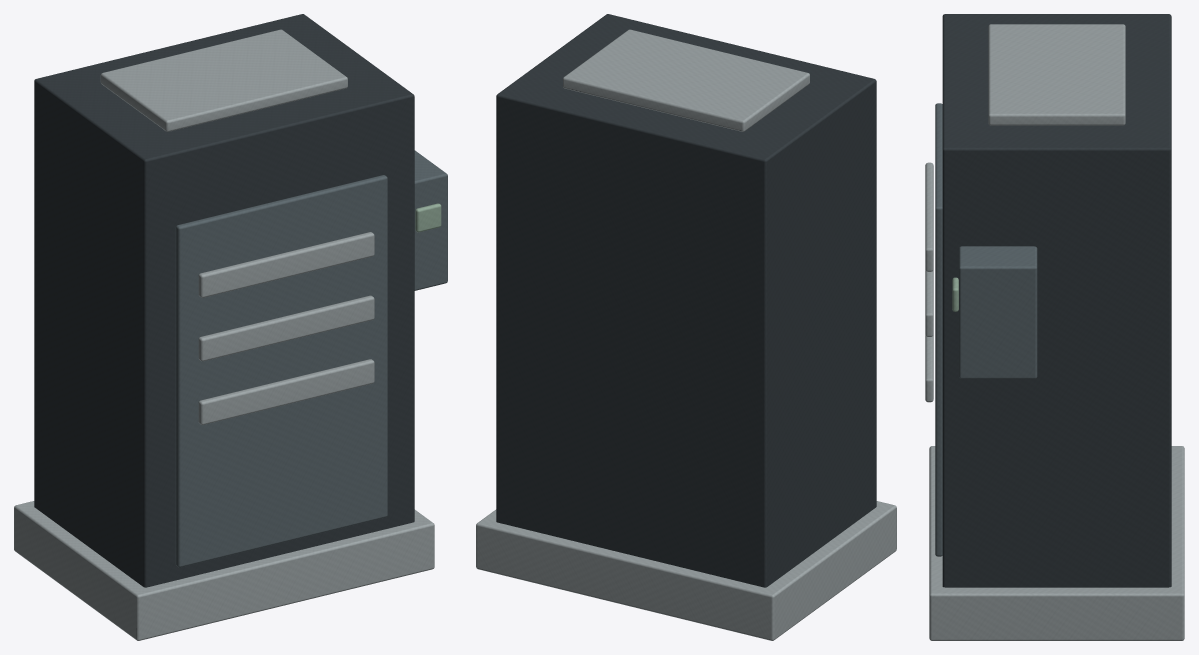
The model's file is AirScrubber.fbx.
3 views of the same model, side by side, from view 1: azimuth 30°, elevation 25°; view 2: azimuth 150°, elevation 25°; view 3: azimuth 270°, elevation 25° (orthographic). The views are drawn at different scales.
Parts seen in each view (by area): view 1: AirScrubber_Mesh; view 2: AirScrubber_Mesh; view 3: AirScrubber_Mesh.
Boxes of the visible parts, left/top/right/bottom form: AirScrubber_Mesh: left=14, top=14, right=447, bottom=640; AirScrubber_Mesh: left=476, top=14, right=896, bottom=640; AirScrubber_Mesh: left=925, top=14, right=1184, bottom=640.
Size of the model in its own units: 118 by 168 by 79.25.
Materials: 4 (4 with a texture image).
